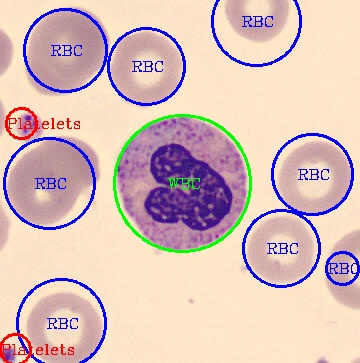Platelets: (11, 109, 46, 146), (0, 339, 21, 361)
RBC: (23, 4, 110, 97), (5, 141, 84, 229), (275, 137, 354, 218), (108, 28, 185, 110), (24, 288, 106, 362), (245, 213, 317, 286), (28, 133, 101, 194), (321, 225, 358, 313), (222, 0, 291, 44)
WBC: (115, 113, 249, 225)
